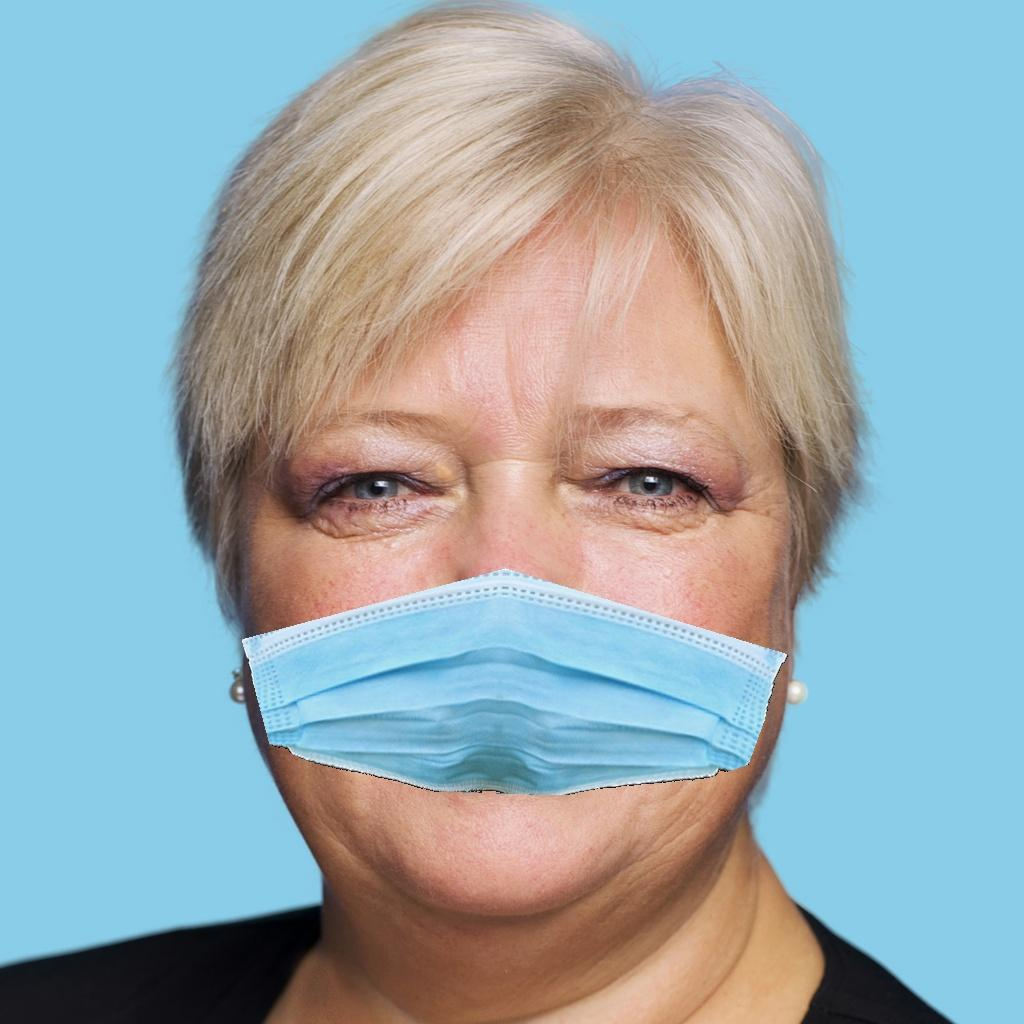Máscara Incorreta: (209, 290, 807, 936)
